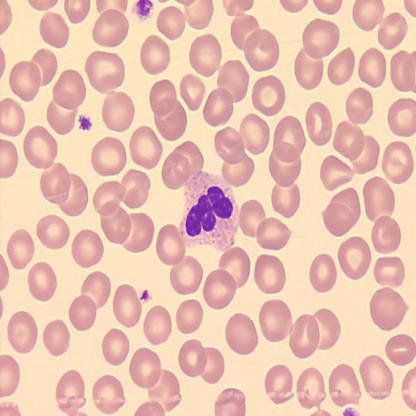Segmented neutrophil: (177, 166, 241, 257)
